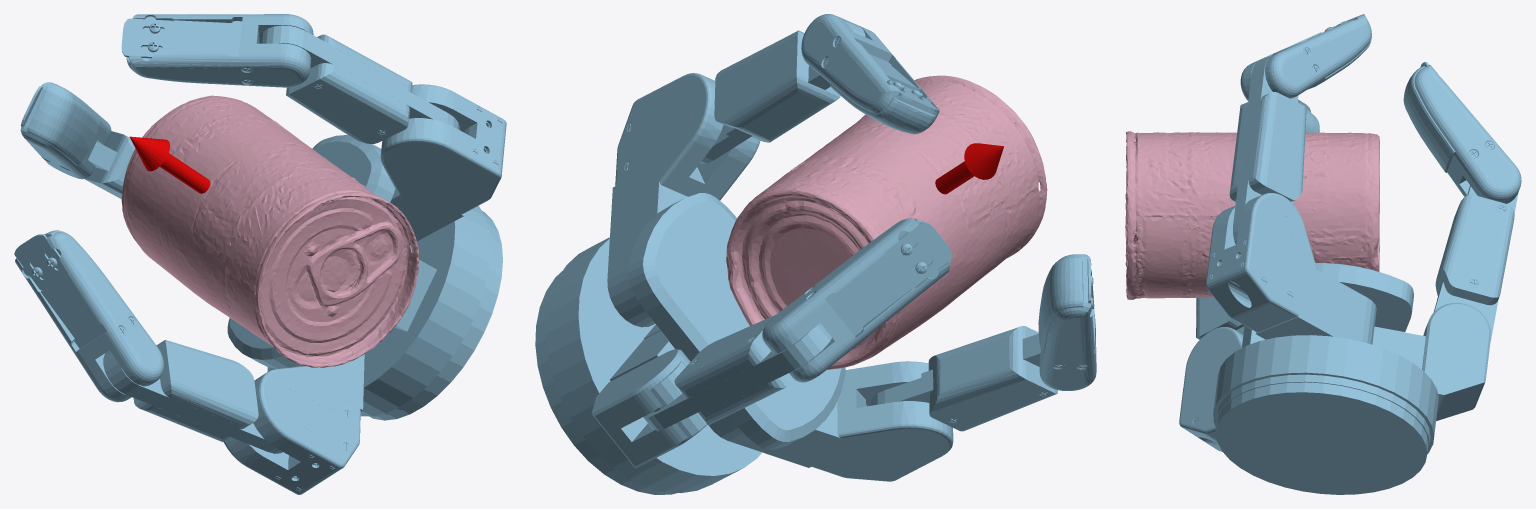
3 views of the same model, side by side, from view 1: azimuth 30°, elevation 25°; view 2: azimuth 150°, elevation 25°; view 3: azimuth 270°, elevation 25° (orthographic). The views are drawn at different scales.
Parts seen in each view (by area): view 1: world, tomato_soup_can.stl; view 2: world, tomato_soup_can.stl; view 3: world, tomato_soup_can.stl.
Boxes of the visible parts, box(x1,y1,x2,y2) form: world: box(14, 14, 506, 494); tomato_soup_can.stl: box(121, 95, 419, 367); world: box(535, 14, 1096, 494); tomato_soup_can.stl: box(726, 75, 1047, 369); world: box(1179, 14, 1521, 494); tomato_soup_can.stl: box(1125, 131, 1379, 299).
Size of the model in its own units: 0.1991 by 0.1789 by 0.1584.
